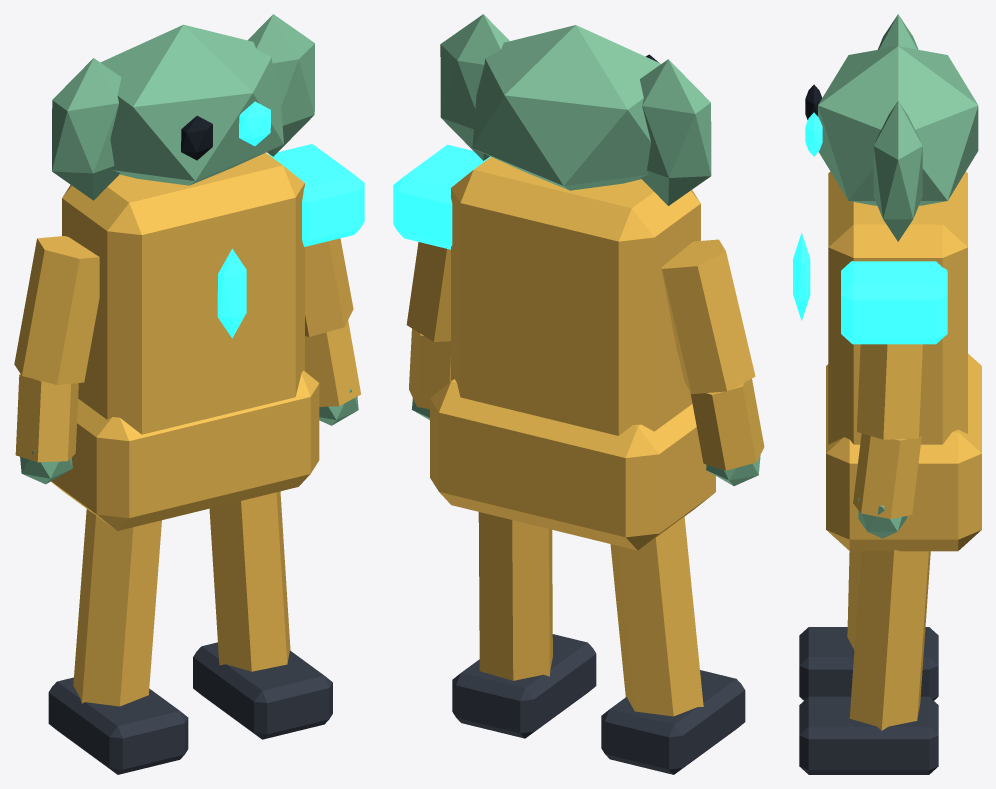
The model's file is npcs_005_seed100.glb.
3 renders of one model, left to right at view 1: azimuth 30°, elevation 25°; view 2: azimuth 150°, elevation 25°; view 3: azimuth 270°, elevation 25°, orthographic. The views are drawn at different scales.
Parts seen in each view (by area): view 1: npcs_005_seed100; view 2: npcs_005_seed100; view 3: npcs_005_seed100.
Boxes of the visible parts, box(x1,y1,x2,y2) form: npcs_005_seed100: box(14, 14, 364, 774); npcs_005_seed100: box(393, 14, 764, 774); npcs_005_seed100: box(793, 14, 981, 774).
Bounding box in the file's own units: 0.9909 × 1.94 × 0.4857.
